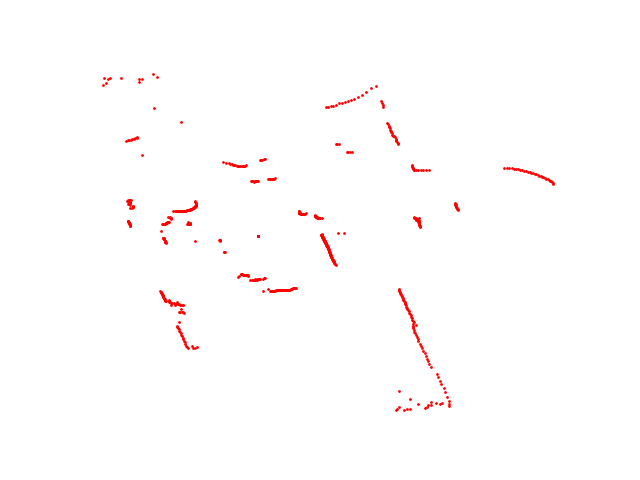person: (294, 206, 327, 225), (248, 175, 281, 188)
